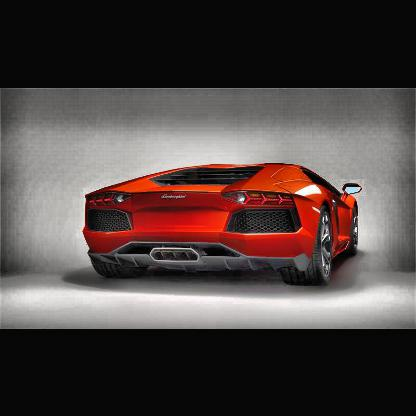Lamborghini Aventador Coupe 2012: (82, 162, 364, 288)
